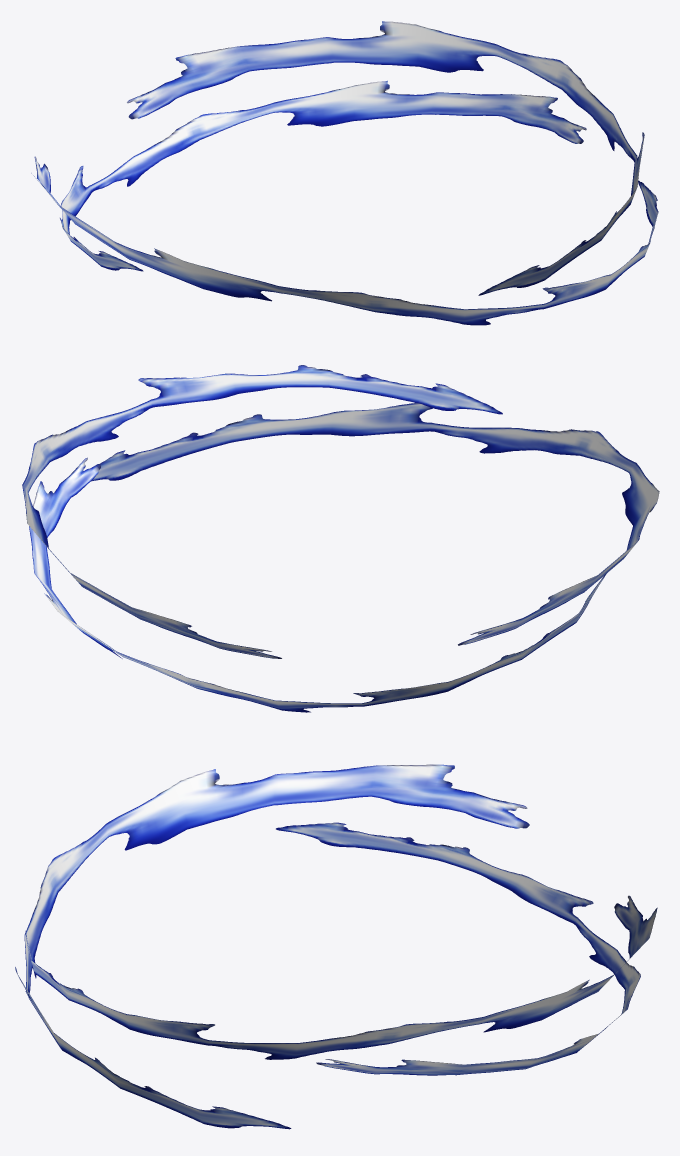
The model's file is fx_fbx_fx_upgrade2.FBX.
3 views of the same model, one above another, from view 1: azimuth 30°, elevation 25°; view 2: azimuth 150°, elevation 25°; view 3: azimuth 270°, elevation 25° (orthographic). The views are drawn at different scales.
Visible parts, largest first — view 1: Plane005; view 2: Plane005; view 3: Plane005.
Part boxes in pixels (x1,y1,x2,y2): Plane005: [31, 21, 658, 325]; Plane005: [22, 365, 659, 712]; Plane005: [15, 764, 657, 1129].
Bounding box in the file's own units: 199 × 189 × 39.11.
